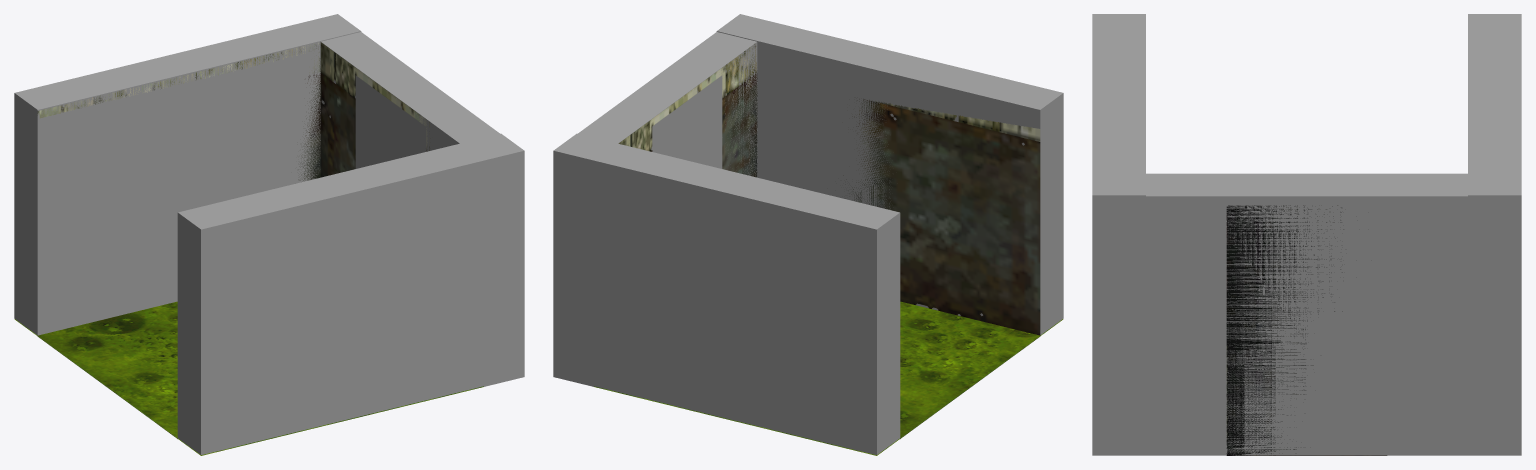
Rendered from sewerDeepEnd.fbx.
The picture shows the model from 3 angles, left to right: view 1: azimuth 30°, elevation 25°; view 2: azimuth 150°, elevation 25°; view 3: azimuth 270°, elevation 25°; orthographic projection. The views are drawn at different scales.
Parts seen in each view (by area): view 1: mvcv_obb_sewerDeepEndQ_02, mvcv_obb_sewerDeepEndQ_03, mvcv_obb_sewerDeepEndQ_01, waterPlaneC05, sewerDeepEndQ, waterPlaneB05; view 2: mvcv_obb_sewerDeepEndQ_03, sewerDeepEndQ, mvcv_obb_sewerDeepEndQ_02, mvcv_obb_sewerDeepEndQ_01, waterPlaneC05, waterPlaneB05; view 3: mvcv_obb_sewerDeepEndQ_01, mvcv_obb_sewerDeepEndQ_02, mvcv_obb_sewerDeepEndQ_03, sewerDeepEndQ.
Part boxes in pixels (bbox=[...]): mvcv_obb_sewerDeepEndQ_02: bbox=[177, 133, 524, 454]; mvcv_obb_sewerDeepEndQ_03: bbox=[14, 14, 361, 335]; mvcv_obb_sewerDeepEndQ_01: bbox=[321, 32, 524, 386]; waterPlaneC05: bbox=[38, 301, 177, 437]; sewerDeepEndQ: bbox=[37, 42, 429, 438]; waterPlaneB05: bbox=[15, 319, 483, 455]; mvcv_obb_sewerDeepEndQ_03: bbox=[553, 133, 900, 454]; sewerDeepEndQ: bbox=[618, 44, 1040, 438]; mvcv_obb_sewerDeepEndQ_02: bbox=[716, 14, 1063, 335]; mvcv_obb_sewerDeepEndQ_01: bbox=[553, 32, 757, 386]; waterPlaneC05: bbox=[900, 301, 1039, 437]; waterPlaneB05: bbox=[594, 319, 1062, 455]; mvcv_obb_sewerDeepEndQ_01: bbox=[1092, 173, 1521, 455]; mvcv_obb_sewerDeepEndQ_02: bbox=[1092, 14, 1145, 454]; mvcv_obb_sewerDeepEndQ_03: bbox=[1468, 14, 1521, 454]; sewerDeepEndQ: bbox=[1226, 205, 1386, 455].
Bounding box in the file's own units: 300 × 201 × 300.
Materials: 4 (3 with a texture image).
